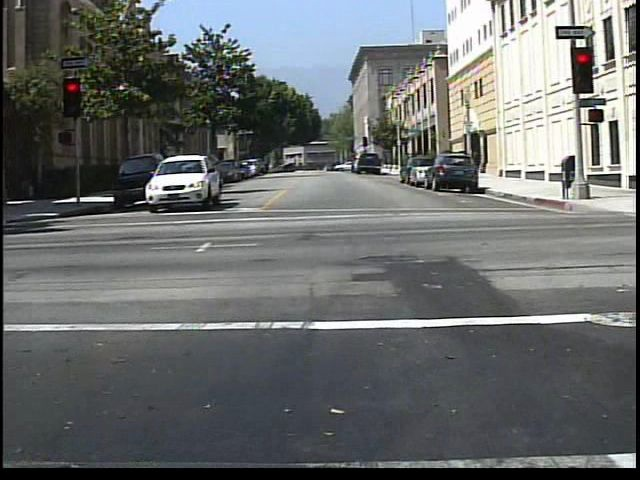person: (265, 157, 279, 180)
